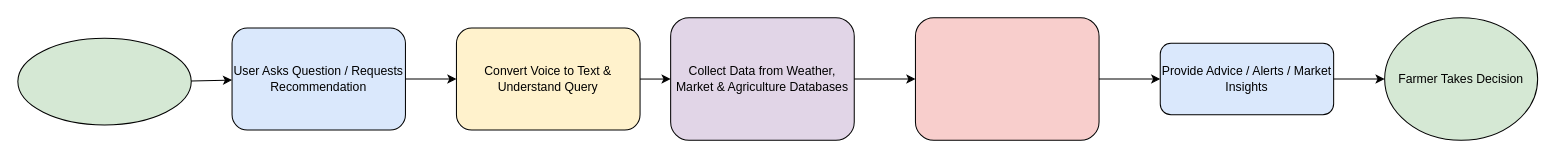
Image size: 1556x158. Some labels were removed from this diagram. Each missing label, with the centre of its shape:
AI Models Generate Recommendations & Predictions: pixel 1006 78
Farmer Opens App / Voice Assistant: pixel 104 81
